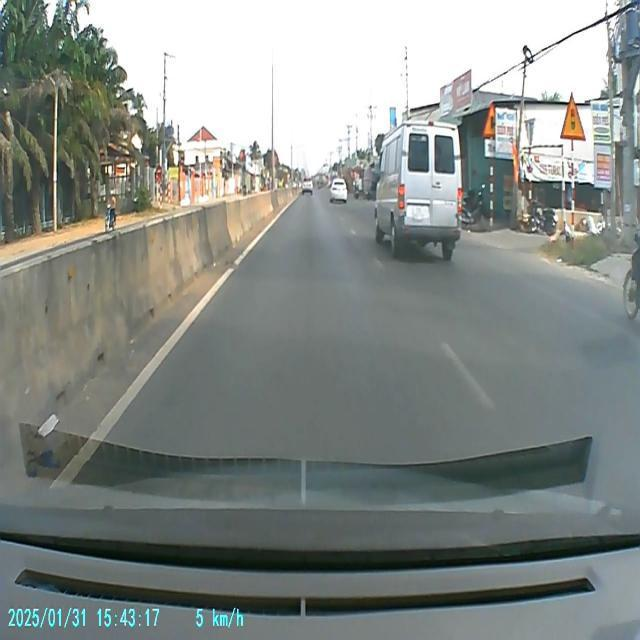209-giao-nhau-co-tin-hieu-den: (558, 94, 586, 146)
